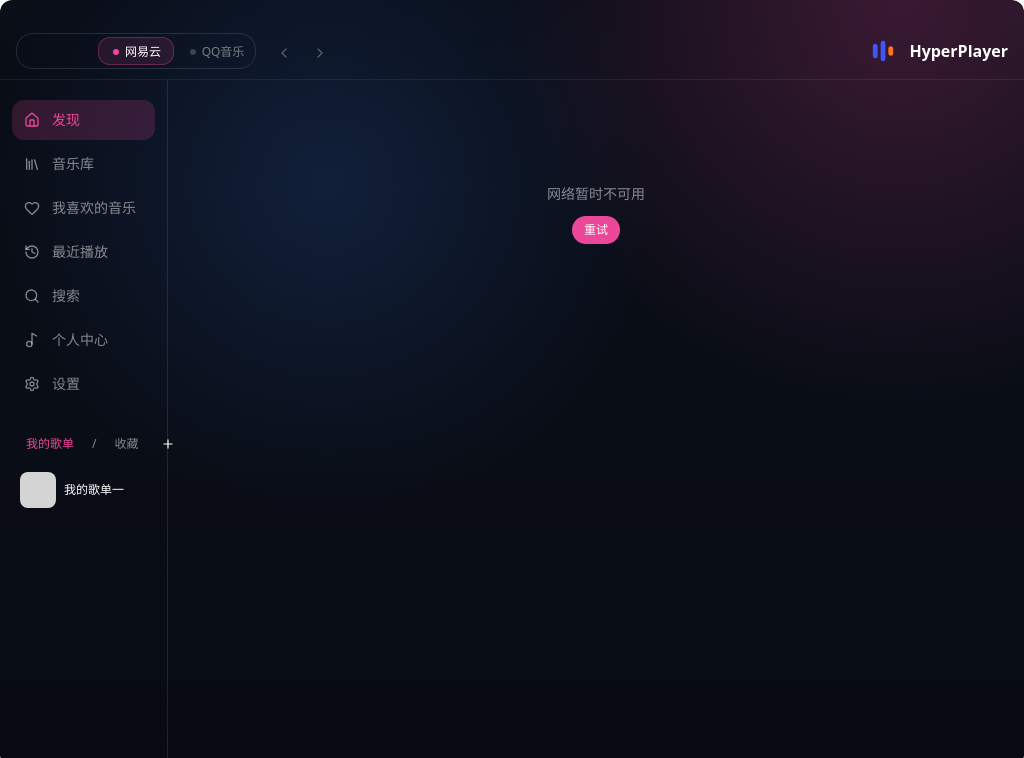
Test: 传统模式 TraditionalView › 首页失败后显示错误并可重试恢复内容
Expected: the message shows "网络暂时不可用", [547,184,645,203]
Click the button "重试" at (596, 230), box [572,216,620,244]
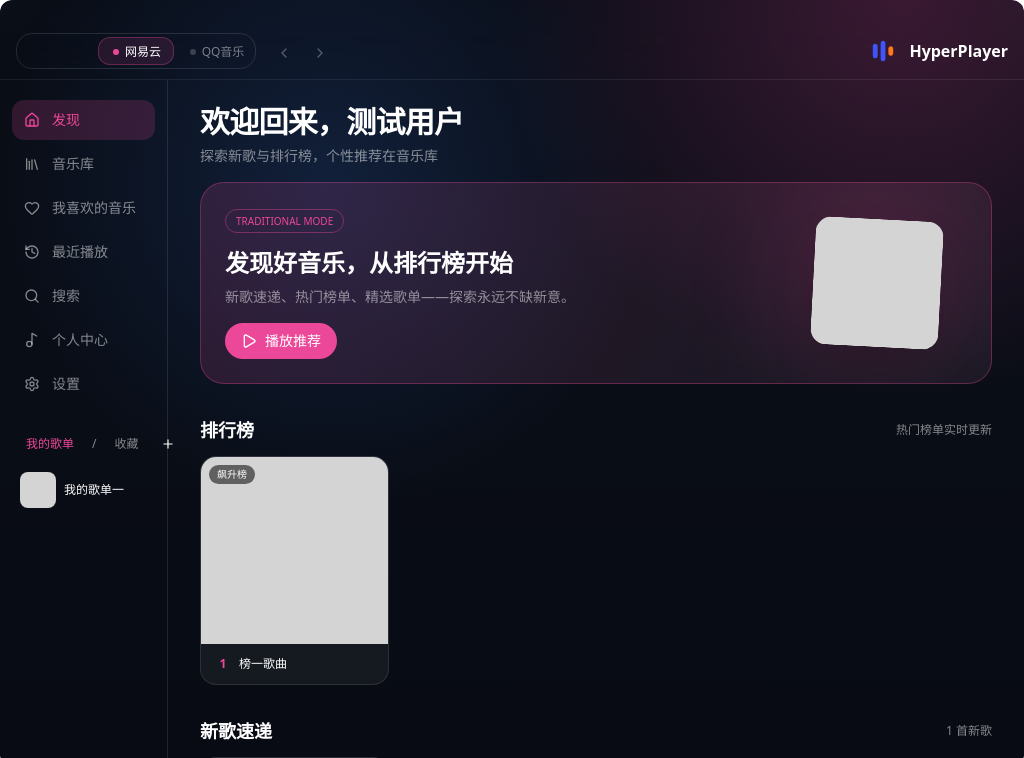
Now the heading "排行榜" is shown, box [200,416,254,444]
